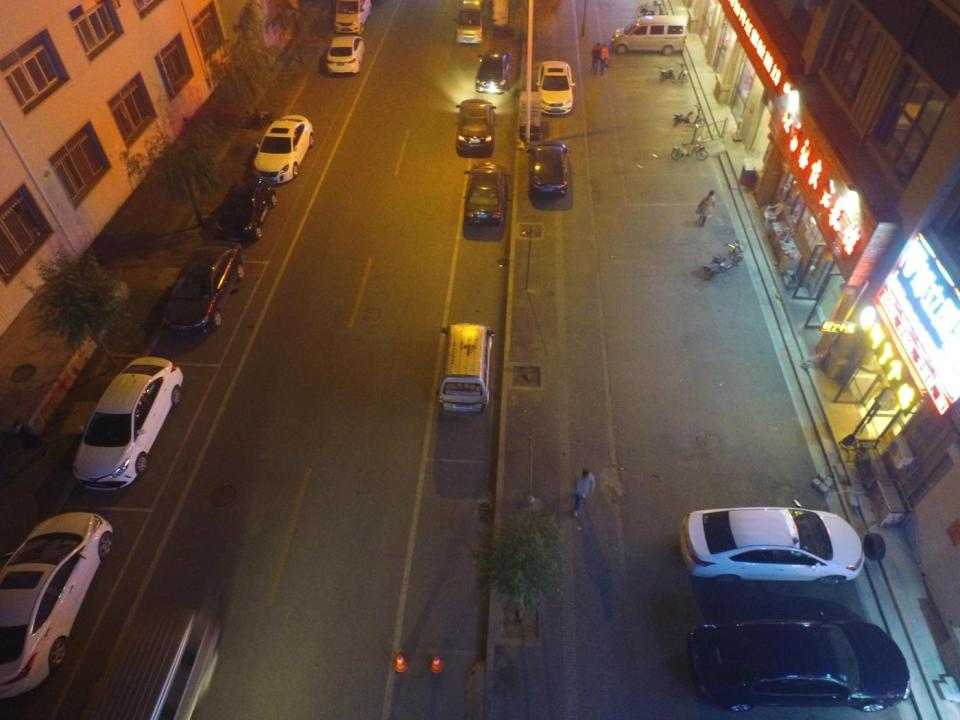car: (686, 612, 910, 712), (2, 512, 113, 698), (678, 500, 864, 588), (71, 357, 183, 489), (162, 240, 245, 336), (252, 115, 313, 183), (217, 176, 276, 240), (462, 163, 510, 224), (526, 140, 570, 197), (454, 98, 496, 154), (536, 60, 576, 115), (474, 50, 513, 93), (326, 36, 365, 74)
truck: (492, 0, 524, 34)
van: (78, 605, 218, 720), (437, 323, 496, 416), (612, 15, 686, 56), (454, 0, 484, 45), (333, 0, 372, 33)
